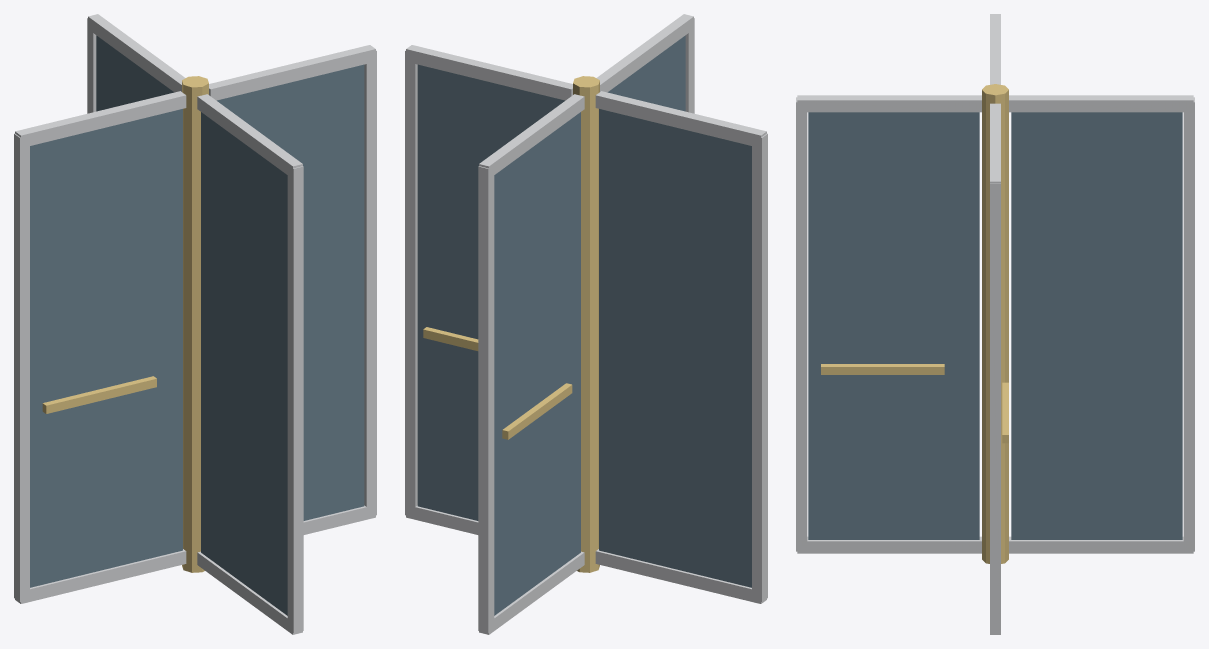
Rendered from HJ_PuertaGiratoria_Aspas.fbx.
The picture shows the model from 3 angles, left to right: view 1: azimuth 30°, elevation 25°; view 2: azimuth 150°, elevation 25°; view 3: azimuth 270°, elevation 25°; orthographic projection. The views are drawn at different scales.
Visible parts, largest first — view 1: HJ_PuertaGiratoria_Aspas; view 2: HJ_PuertaGiratoria_Aspas; view 3: HJ_PuertaGiratoria_Aspas.
Part boxes in pixels (bbox=[...]): HJ_PuertaGiratoria_Aspas: bbox=[14, 14, 376, 634]; HJ_PuertaGiratoria_Aspas: bbox=[405, 14, 767, 634]; HJ_PuertaGiratoria_Aspas: bbox=[796, 14, 1194, 634].
Bounding box in the file's own units: 1.77 × 2.3 × 1.77.
